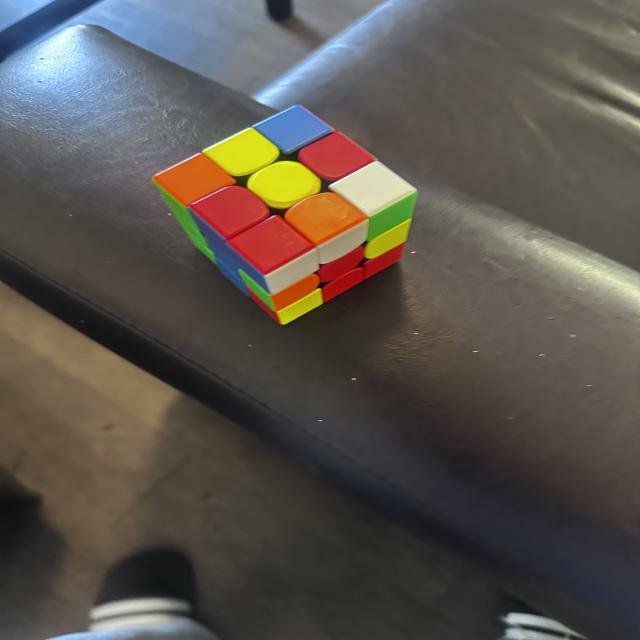sticker: (150, 153, 240, 255), (224, 215, 320, 295), (283, 191, 370, 264), (327, 160, 416, 226), (192, 212, 254, 292), (150, 152, 234, 208), (188, 185, 271, 241), (252, 103, 333, 155), (298, 130, 376, 181), (202, 126, 279, 177), (246, 160, 322, 210), (362, 190, 418, 244), (158, 189, 202, 252), (266, 273, 320, 312), (364, 218, 413, 260), (316, 244, 365, 284), (321, 265, 368, 303), (276, 289, 325, 325), (360, 243, 405, 281), (180, 213, 212, 260), (239, 271, 272, 309)
